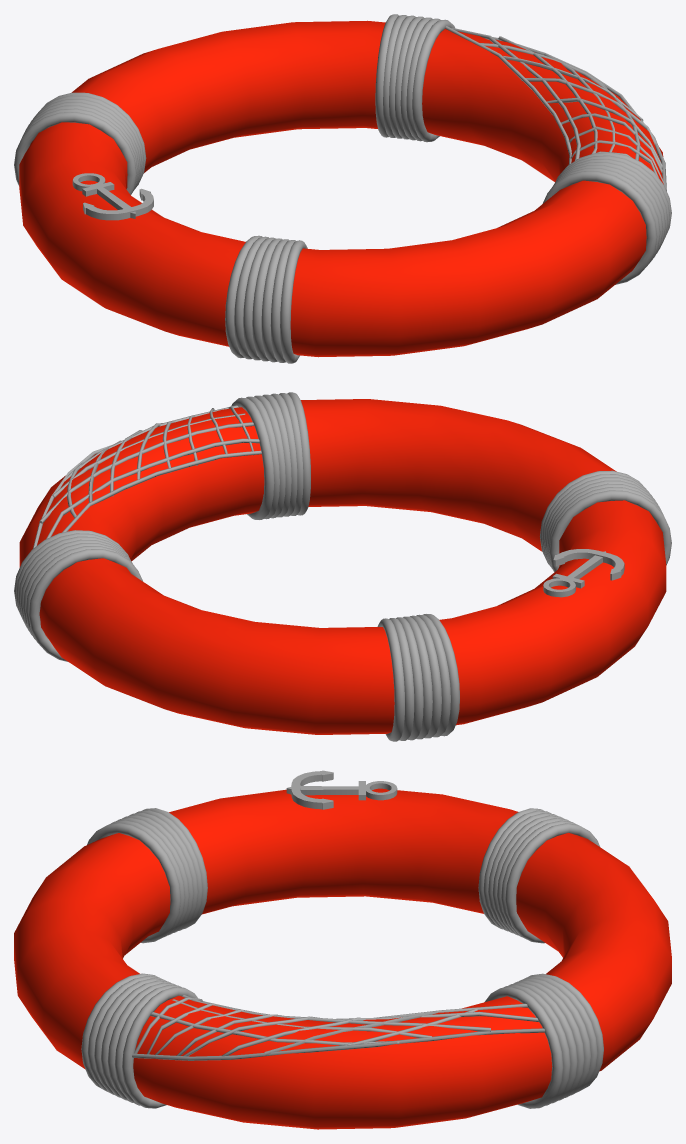
Rendered from bouée.fbx.
3 views of the same model, one above another, from view 1: azimuth 30°, elevation 25°; view 2: azimuth 150°, elevation 25°; view 3: azimuth 270°, elevation 25° (orthographic).
Visible parts, largest first — view 1: Torus001, Torus017, Torus003, Line001, Torus024, Torus010, Tube002; view 2: Torus001, Torus010, Torus024, Line001, Torus003, Torus017, Tube002; view 3: Torus001, Line001, Torus003, Torus024, Torus010, Torus017, Tube002.
Boxes of the visible parts, x1,y1,x2,y2 form: Torus001: (19,20,663,357); Torus017: (225,235,307,363); Torus003: (375,14,454,142); Line001: (445,26,666,190); Torus024: (542,152,671,284); Torus010: (14,92,146,194); Tube002: (72,173,153,220); Torus001: (19,399,666,734); Torus010: (377,614,459,741); Torus024: (231,392,310,519); Line001: (33,405,261,548); Torus003: (14,530,142,661); Torus017: (540,470,671,571); Tube002: (543,549,624,597); Torus001: (14,788,671,1129); Line001: (132,995,544,1060); Torus003: (484,973,603,1108); Torus024: (81,973,198,1108); Torus010: (478,808,599,943); Torus017: (87,808,207,943); Tube002: (286,770,397,809).
Bounding box in the file's own units: 1426 × 274 × 1426.
